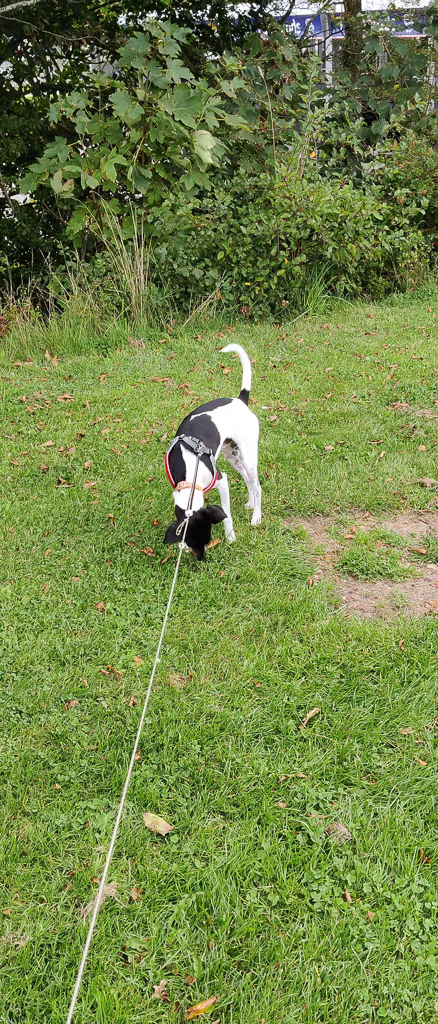Dog: (146, 336, 271, 569)
